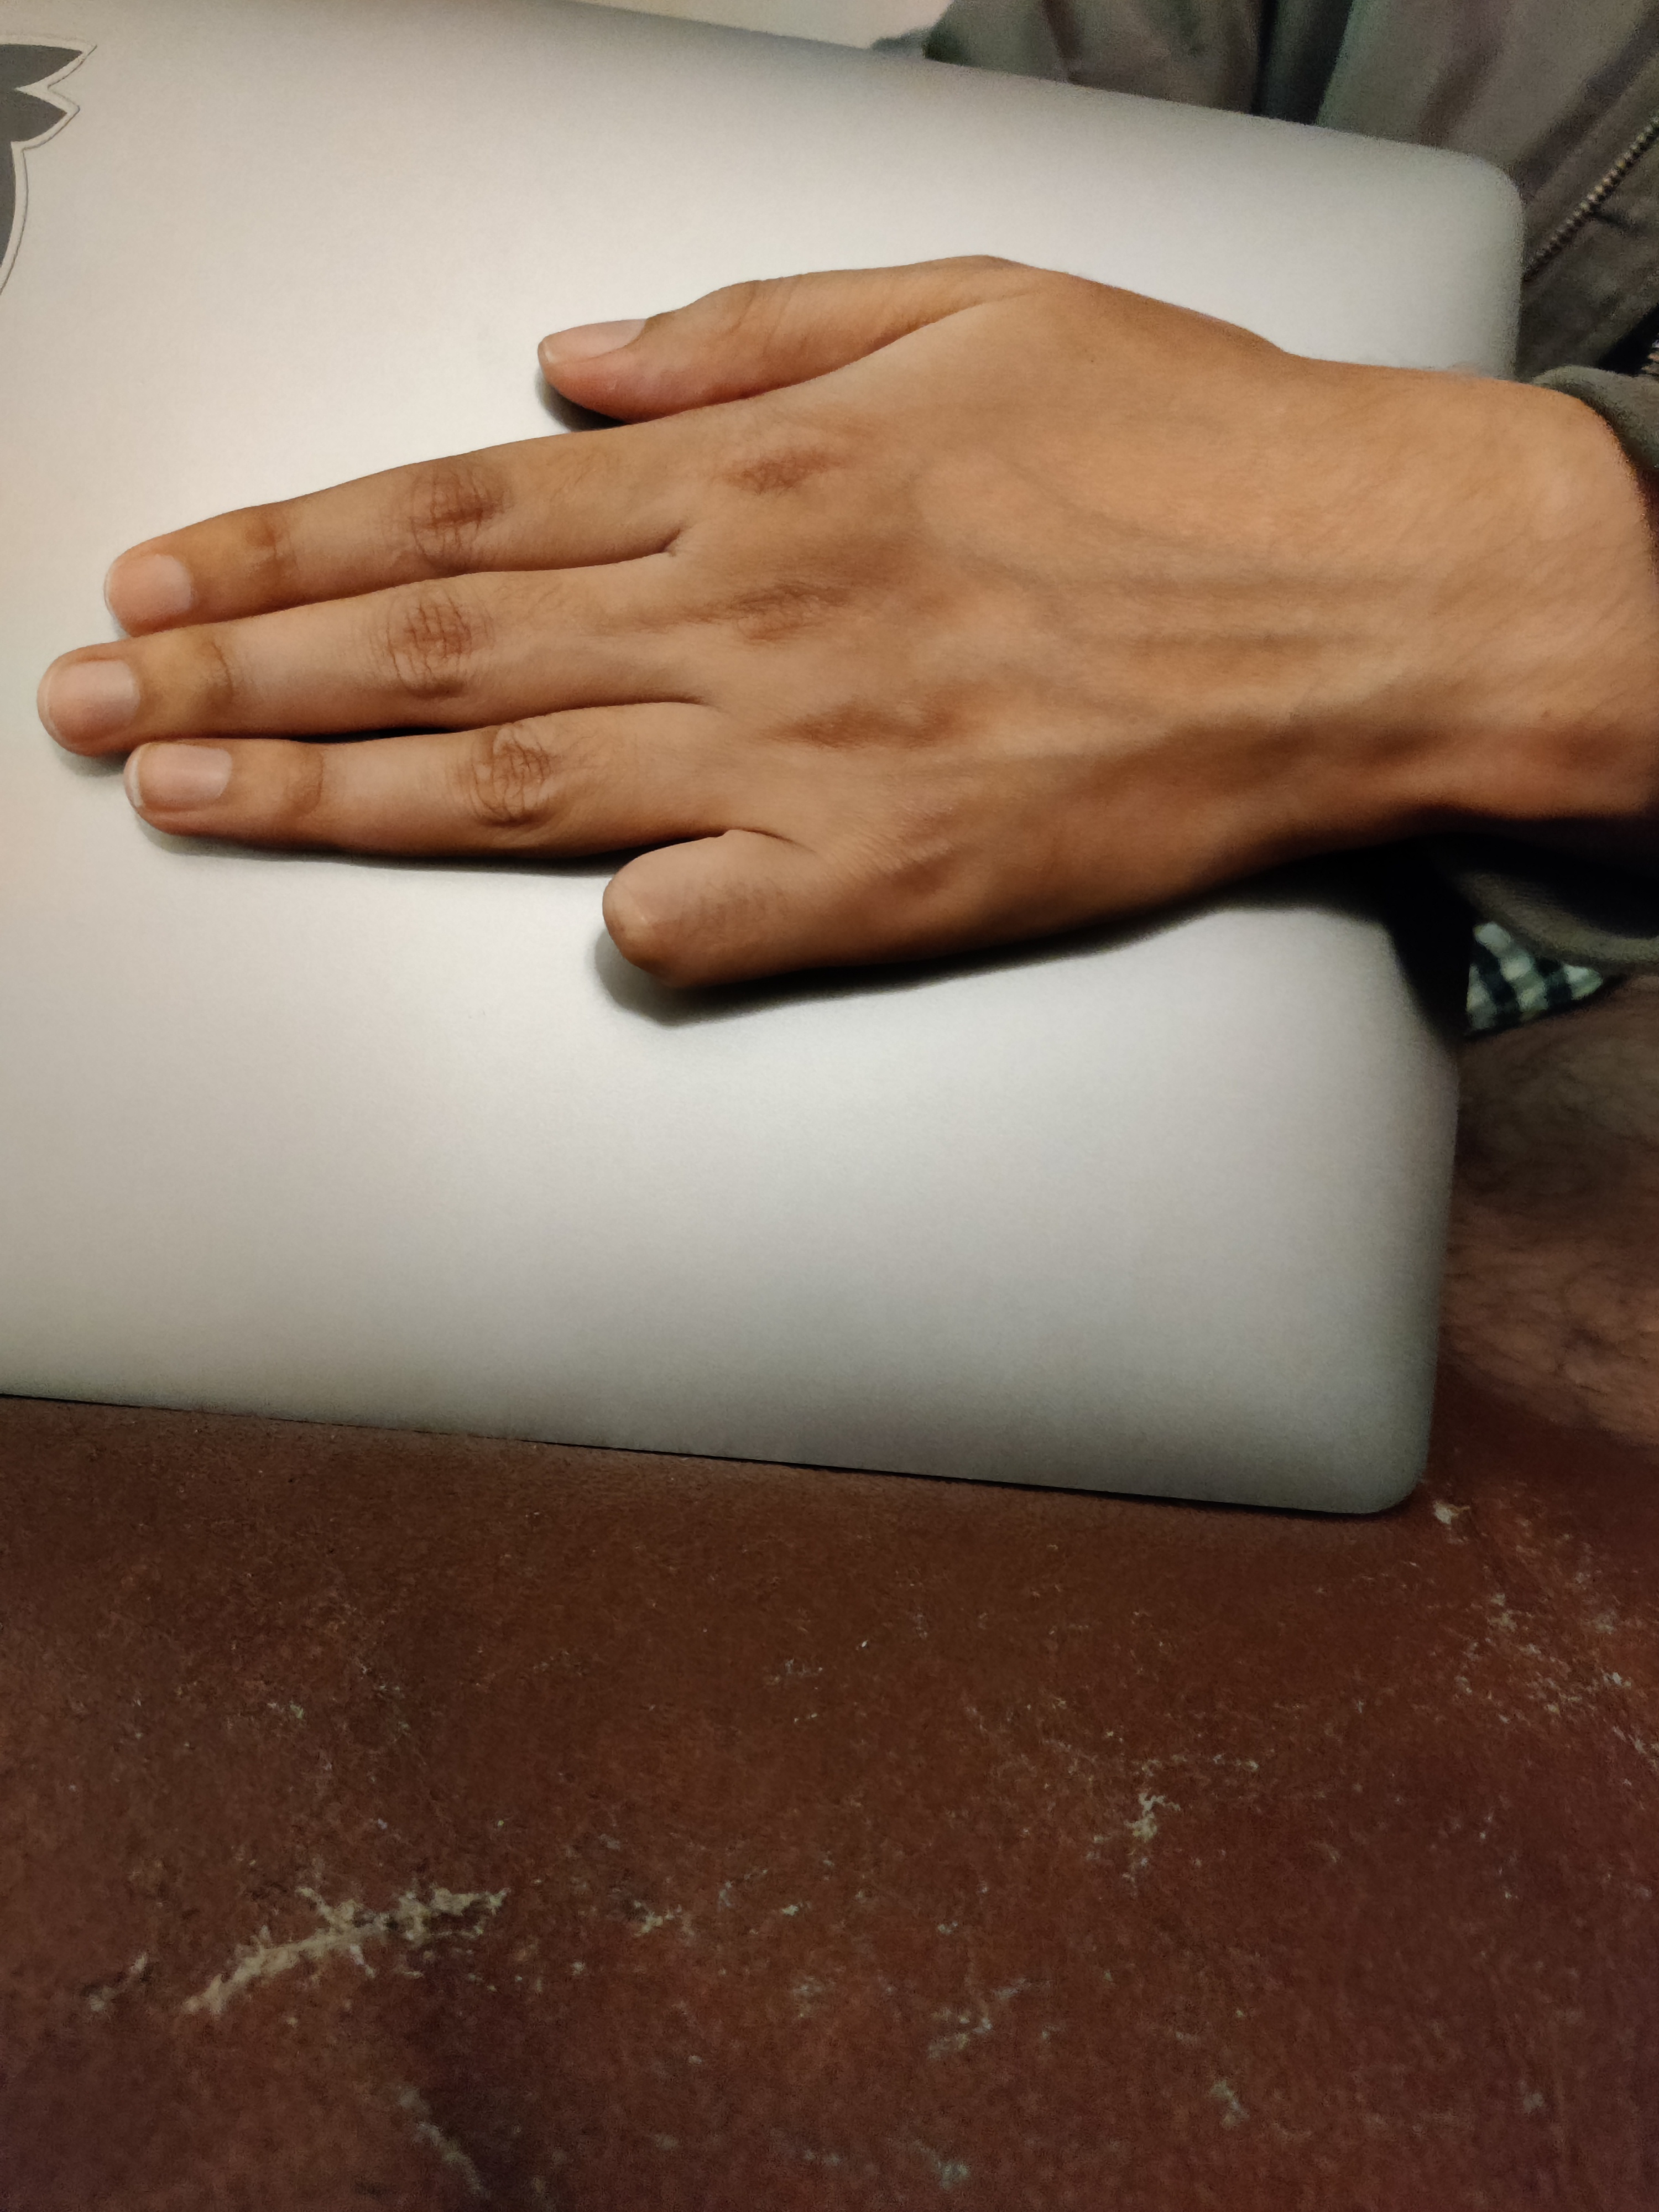right: (26, 178, 1619, 1223)
